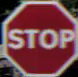Stop: (2, 1, 74, 71)
